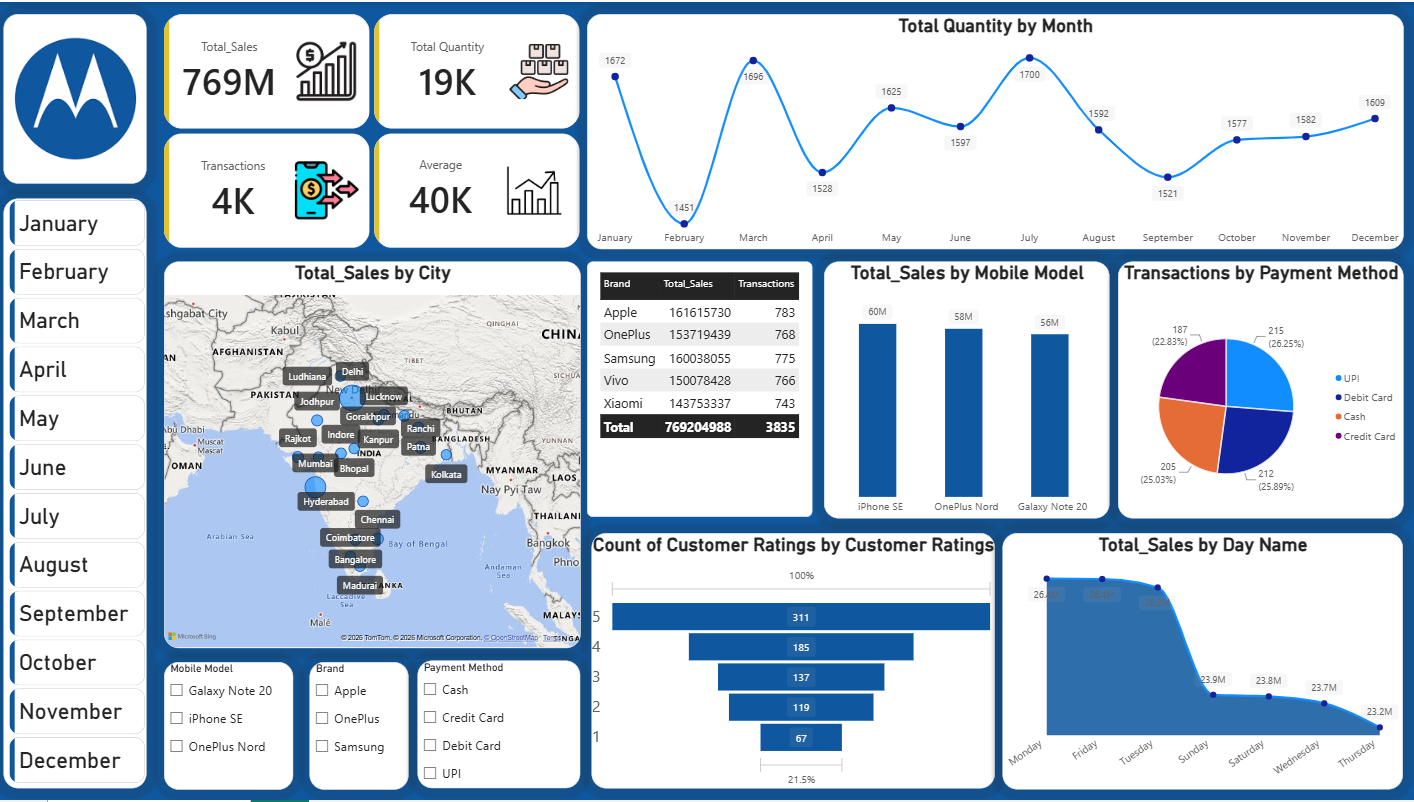

The dashboard page shown, as its layout file describes it:
{"tool":"powerbi","page":{"name":"mobile sales data ","canvas":[1920,1080],"ordinal":0},"visuals":[{"type":"shape","box":[6.8,15.9,193.1,229.4],"z":0},{"type":"image","box":[15.9,31.8,174.9,197.6],"z":1000},{"type":"shape","box":[6.8,265.7,193.1,797.2],"z":2000},{"type":"advancedSlicerVisual","fields":{"Values":["Mobile Sales Data.Date.Variation.Date Hierarchy.Month"]},"box":[13.6,268,184,797.2],"z":3000},{"type":"cardVisual","fields":{"Data":["Mobile Sales Data.Total_Sales","Mobile Sales Data.Total Quantity","Mobile Sales Data.Transactions","Mobile Sales Data.Average"]},"box":[222.6,15.9,563.3,318],"z":4000},{"type":"map","fields":{"Category":["Mobile Sales Data.City"],"Size":["Mobile Sales Data.Total_Sales"]},"box":[222.6,349.8,563.3,522.4],"z":5000},{"type":"lineChart","fields":{"Category":["Mobile Sales Data.Date.Variation.Date Hierarchy.Month"],"Y":["Mobile Sales Data.Total Quantity"]},"box":[795,15.9,1103.9,318],"z":5001},{"type":"clusteredColumnChart","fields":{"Category":["Mobile Sales Data.Mobile Model"],"Y":["Mobile Sales Data.Total_Sales"]},"box":[1115.2,349.8,386.1,347.5],"z":5002},{"type":"pieChart","fields":{"Category":["Mobile Sales Data.Payment Method"],"Y":["Mobile Sales Data.Transactions"]},"box":[1512.7,349.8,386.1,347.5],"z":5003},{"type":"funnel","fields":{"Category":["Mobile Sales Data.Customer Ratings"],"Y":["CountNonNull(Mobile Sales Data.Customer Ratings)"]},"box":[801.8,717.7,545.1,345.2],"z":5004},{"type":"areaChart","fields":{"Category":["Mobile Sales Data.Day Name"],"Y":["Mobile Sales Data.Total_Sales"]},"box":[1356.4,717.8,541.4,346.7],"z":5005},{"type":"tableEx","fields":{"Values":["Mobile Sales Data.Brand","Mobile Sales Data.Total_Sales","Mobile Sales Data.Transactions"]},"box":[795,349.8,304.4,345.2],"z":5006},{"type":"slicer","fields":{"Values":["Mobile Sales Data.Mobile Model"]},"box":[222.6,892.6,174.9,172.6],"z":5007},{"type":"slicer","fields":{"Values":["Mobile Sales Data.Brand"]},"box":[420.2,892.6,134,172.6],"z":5008},{"type":"slicer","fields":{"Values":["Mobile Sales Data.Payment Method"]},"box":[565.6,890.4,220.3,172.6],"z":5009}]}

Visuals, with their boxes in screenshot pixels (x1, y1, x2, y2), scaled from the page's 1920x1080 canvas onto the 1414x802 screenshot:
shape: left=5, top=12, right=147, bottom=182
image: left=12, top=24, right=141, bottom=170
shape: left=5, top=197, right=147, bottom=789
advancedSlicerVisual - Mobile Sales Data.Date.Variation.Date Hierarchy.Month: left=10, top=199, right=146, bottom=791
cardVisual - Mobile Sales Data.Total_Sales x Mobile Sales Data.Total Quantity: left=164, top=12, right=579, bottom=248
map - Mobile Sales Data.City x Mobile Sales Data.Total_Sales: left=164, top=260, right=579, bottom=648
lineChart - Mobile Sales Data.Date.Variation.Date Hierarchy.Month x Mobile Sales Data.Total Quantity: left=585, top=12, right=1398, bottom=248
clusteredColumnChart - Mobile Sales Data.Mobile Model x Mobile Sales Data.Total_Sales: left=821, top=260, right=1106, bottom=518
pieChart - Mobile Sales Data.Payment Method x Mobile Sales Data.Transactions: left=1114, top=260, right=1398, bottom=518
funnel - Mobile Sales Data.Customer Ratings x CountNonNull(Mobile Sales Data.Customer Ratings): left=590, top=533, right=992, bottom=789
areaChart - Mobile Sales Data.Day Name x Mobile Sales Data.Total_Sales: left=999, top=533, right=1398, bottom=790
tableEx - Mobile Sales Data.Brand x Mobile Sales Data.Total_Sales: left=585, top=260, right=810, bottom=516
slicer - Mobile Sales Data.Mobile Model: left=164, top=663, right=293, bottom=791
slicer - Mobile Sales Data.Brand: left=309, top=663, right=408, bottom=791
slicer - Mobile Sales Data.Payment Method: left=417, top=661, right=579, bottom=789
